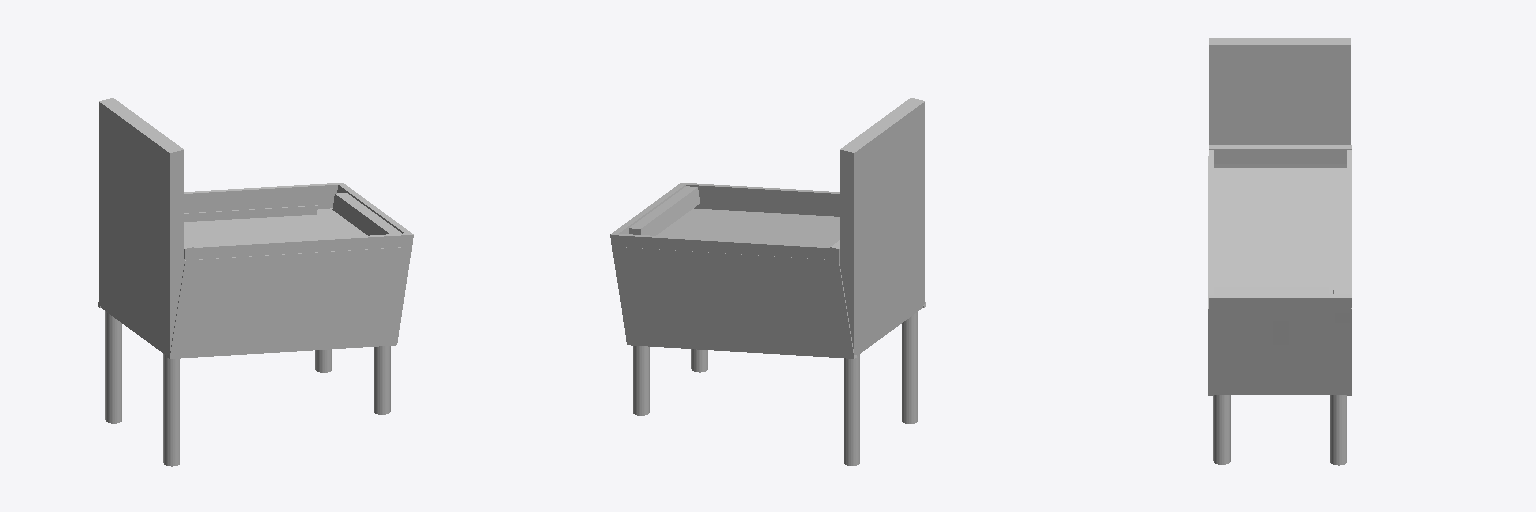
File: pinballV3.obj
3 renders of one model, left to right at view 1: azimuth 30°, elevation 25°; view 2: azimuth 150°, elevation 25°; view 3: azimuth 270°, elevation 25°, orthographic.
Parts seen in each view (by area): view 1: Cube.002, Cube.008, Plane, Cube, Cube.001, Cylinder.002, Cylinder.003, Cube.006, Cube.007, Cylinder.001, Cube.003, Cube.004; view 2: Cube.003, Cube.008, Plane, Cube.001, Cube, Cylinder.003, Cylinder.002, Cube.006, Cube.002, Cylinder, Cube.004; view 3: Plane, Cube.008, Cube.005, Cube.009, Cube.004, Cylinder.001, Cylinder, Cube.006, Cube.001, Cube.
Part boxes in pixels (x1,y1,x2,y2): Cube.002: (167,247,411,358); Cube.008: (99,98,183,355); Plane: (184,208,367,245); Cube: (193,233,412,259); Cube.001: (184,183,337,206); Cylinder.002: (163,354,179,466); Cylinder.003: (105,311,121,423); Cube.006: (332,193,401,235); Cube.007: (184,205,317,221); Cylinder.001: (374,346,390,414); Cube.003: (98,198,333,307); Cube.004: (337,183,413,246); Cube.003: (612,247,856,358); Cube.008: (840,98,924,355); Plane: (656,208,839,245); Cube.001: (610,234,830,259); Cube: (684,183,839,206); Cylinder.003: (844,354,859,465); Cylinder.002: (902,312,917,423); Cube.006: (629,186,699,235); Cube.002: (694,198,925,307); Cylinder: (633,346,649,415); Cube.004: (610,183,685,234); Plane: (1214,168,1346,293); Cube.008: (1209,38,1350,167); Cube.005: (1209,312,1350,394); Cube.009: (1209,145,1351,163); Cube.004: (1209,294,1350,311); Cylinder.001: (1213,395,1230,464); Cylinder: (1330,395,1346,465); Cube.006: (1214,287,1328,293); Cube.001: (1347,150,1351,307); Cube: (1209,150,1213,294).
Bounding box in the file's own units: 50.25 × 62.22 × 25.52.